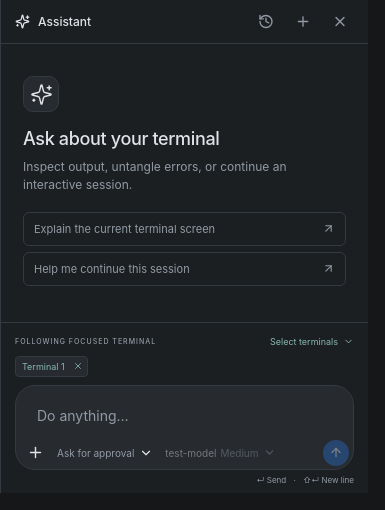
Test case: chat controls › opens persisted history and returns to the current conversation
Click the button named "Chat history": (266, 22) x1=252 y1=8 x2=280 y2=36
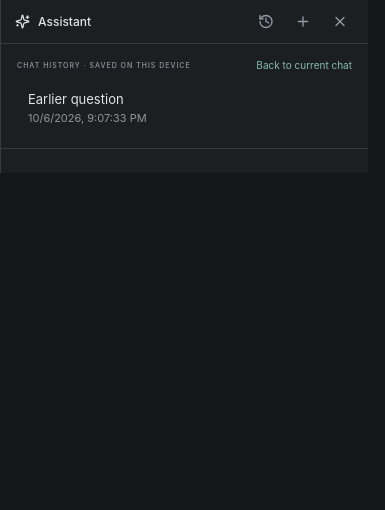
Click the button "Earlier question 10/6/2026, 9:07:33 PM": (76, 99) x1=17 y1=80 x2=352 y2=136
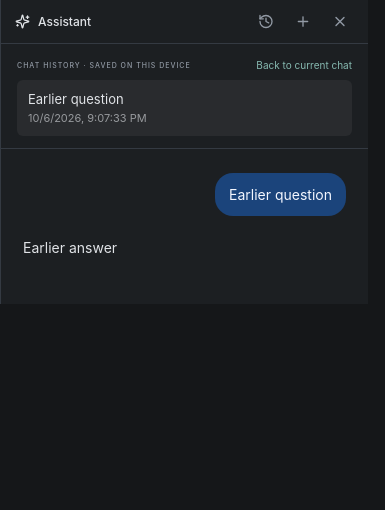
expect the text "Earlier answer" is shown: met, box x1=23 y1=239 x2=117 y2=256
Click the button "Back to current chat": (304, 65) x1=256 y1=56 x2=352 y2=74
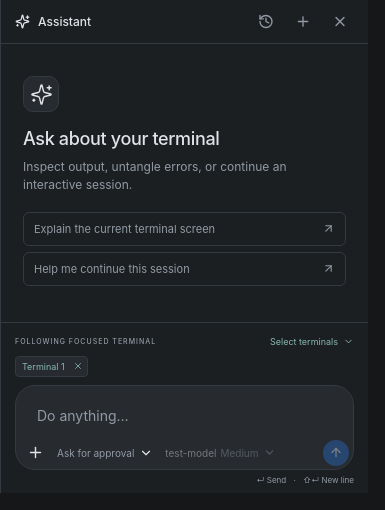
expect the text box named "Ask the assistant" is shown: met, box x1=28 y1=398 x2=341 y2=460
expect the text "Earlier answer" is gone: met
